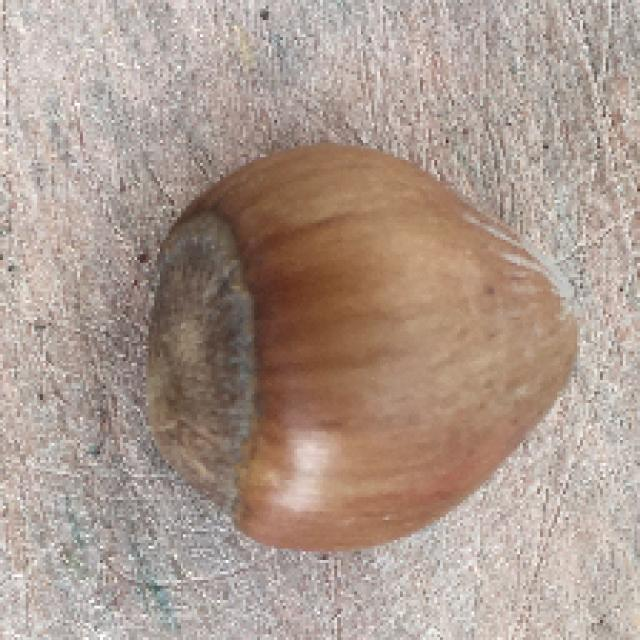damagedHazelnut: (140, 134, 590, 552)
